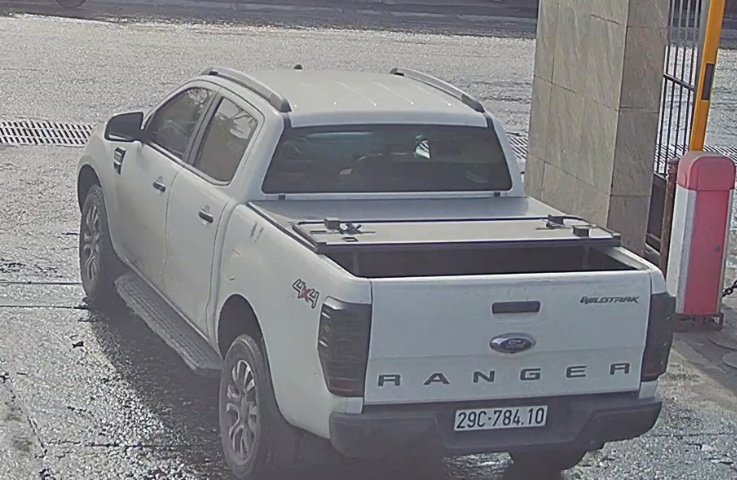vehicle plate: (452, 403, 554, 432)
